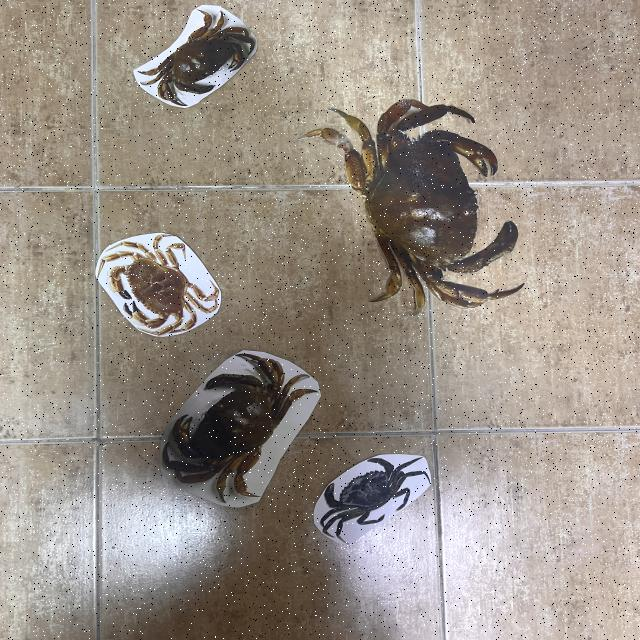European_Green_Crab: (294, 437, 448, 549)
